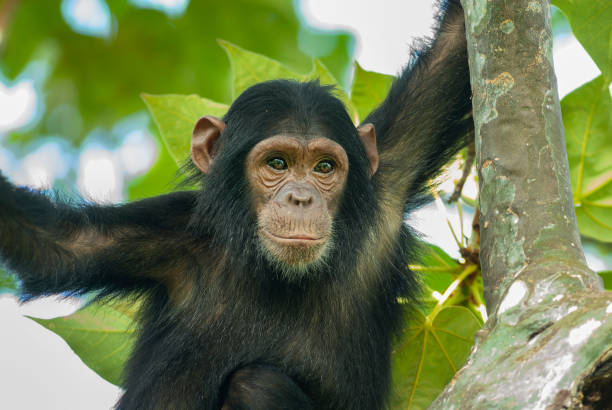chimpanzee: (149, 62, 388, 317)
